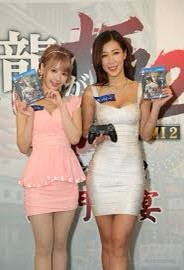people: (83, 26, 146, 270), (26, 47, 75, 270)
